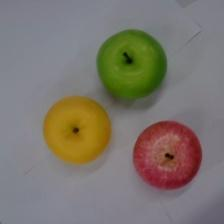green: (97, 30, 167, 99)
red: (132, 119, 201, 188)
yellow: (43, 96, 111, 165)
